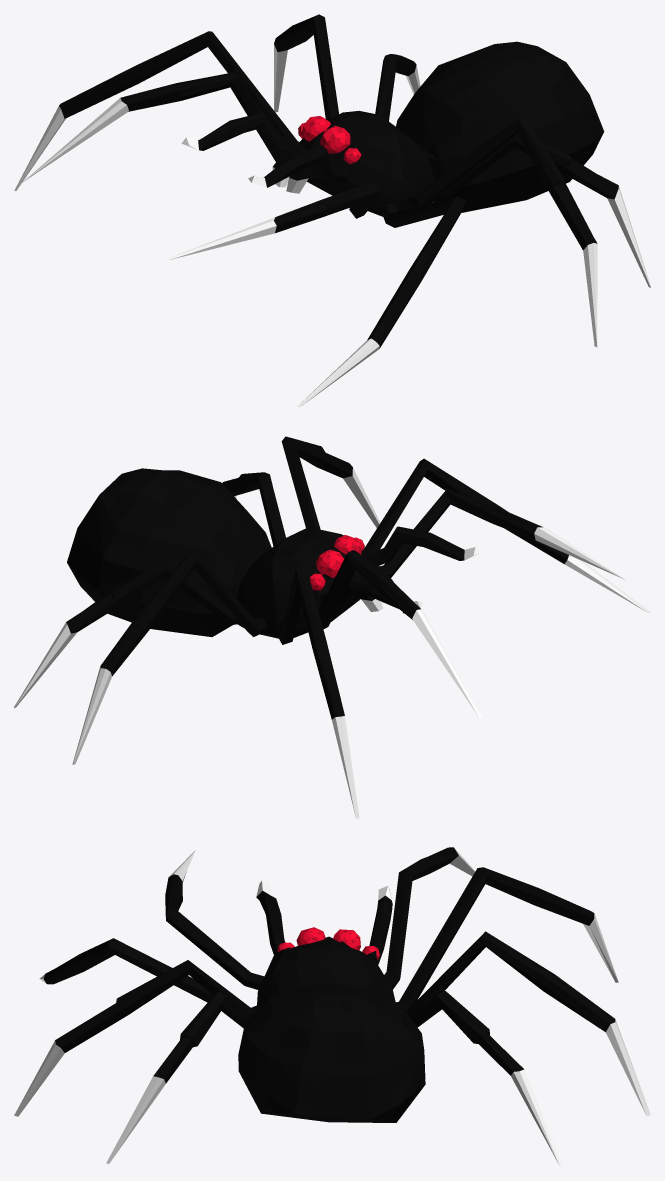
The model's file is spiderAttack12.obj.
3 views of the same model, one above another, from view 1: azimuth 30°, elevation 25°; view 2: azimuth 150°, elevation 25°; view 3: azimuth 270°, elevation 25° (orthographic). The views are drawn at different scales.
Visible parts, largest first — view 1: Cube.004_Cube.005; view 2: Cube.004_Cube.005; view 3: Cube.004_Cube.005.
Boxes of the visible parts, left/top/right/bottom form: Cube.004_Cube.005: left=14, top=14, right=650, bottom=407; Cube.004_Cube.005: left=14, top=436, right=650, bottom=818; Cube.004_Cube.005: left=14, top=847, right=650, bottom=1166.
Size of the model in its own units: 30.36 by 10.61 by 34.72.
